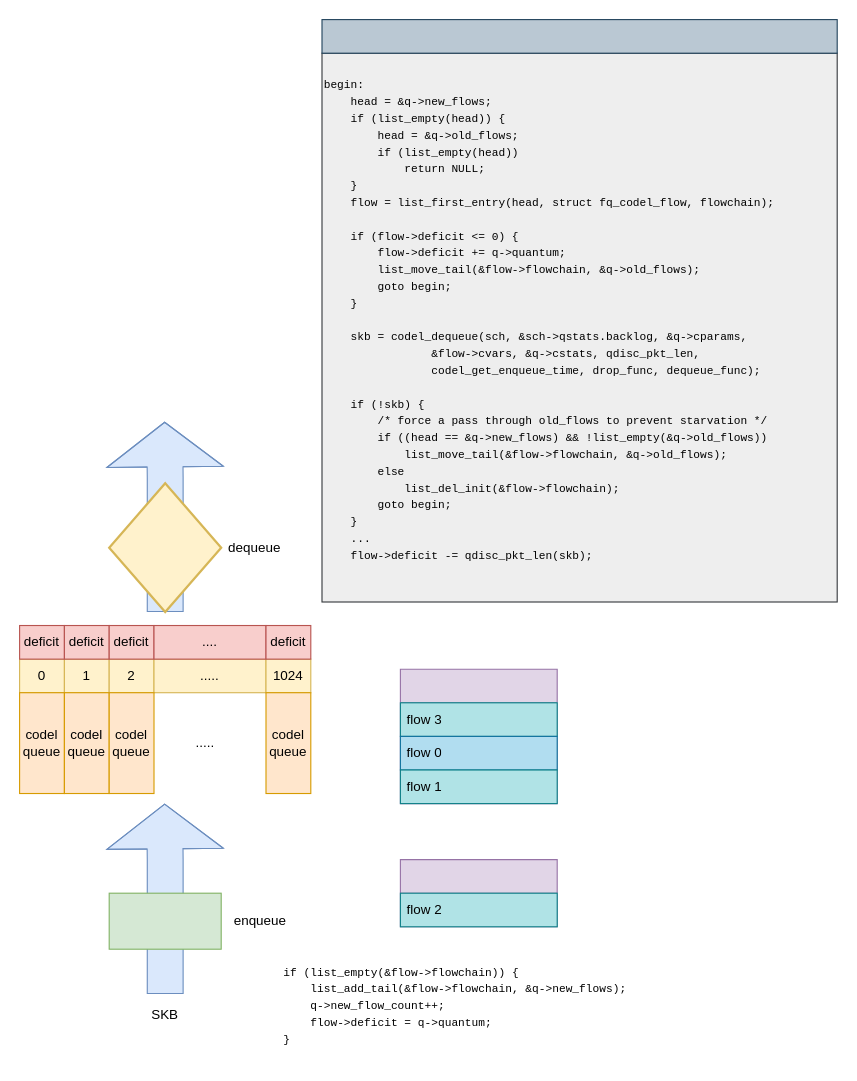
Image size: 857x1081. Some labels were removed from this diagram. Here are the shapes that lost their labels. From the top down, the box of each, then its label:
(321, 18, 837, 53): fq scheduler
(108, 482, 222, 613): DRR Scheduler
(399, 668, 557, 804): new flows
(399, 858, 557, 927): old flows
(108, 892, 221, 949): HASH
